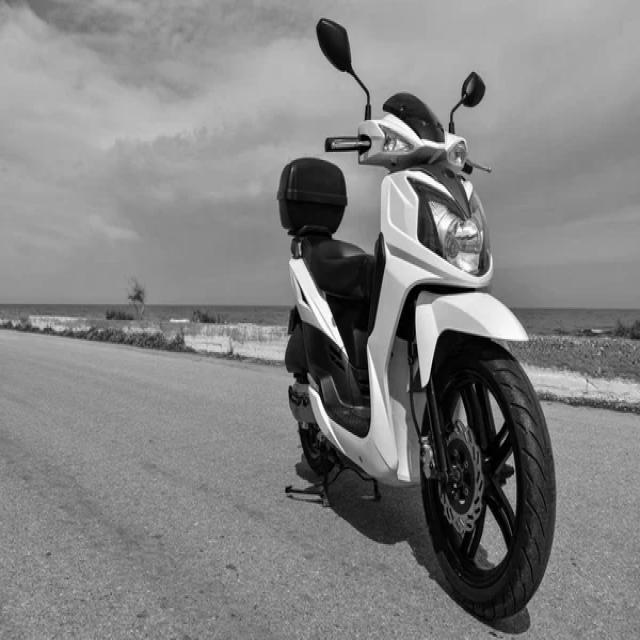Motorcycle: (277, 93, 557, 622)
